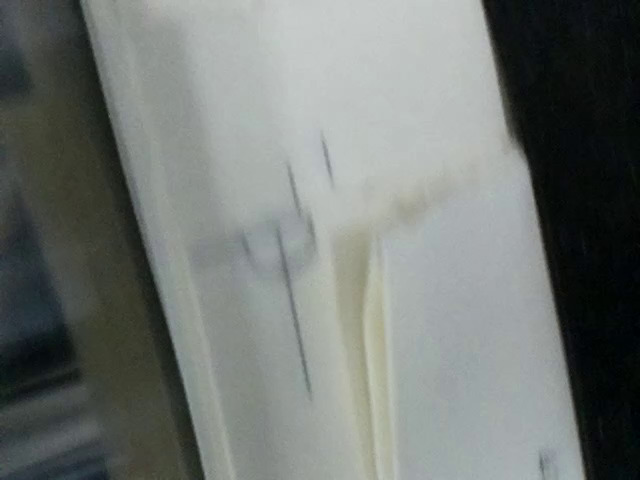not_sure: (189, 164, 326, 280)
